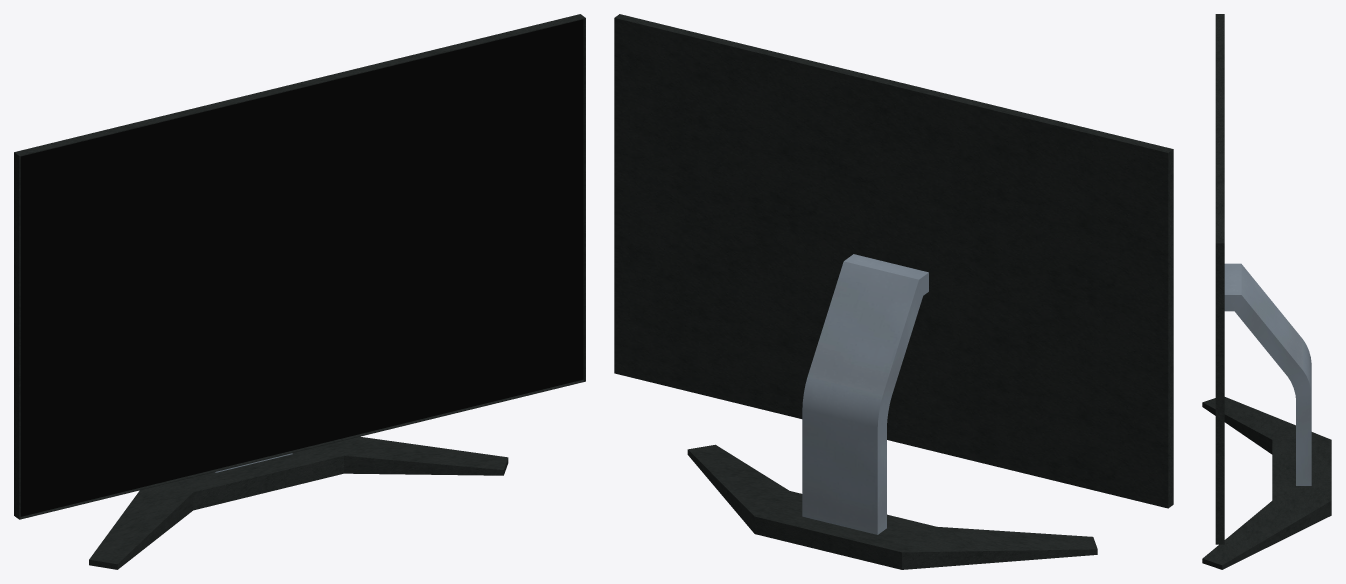
Rendered from monitor.glb.
The picture shows the model from 3 angles, left to right: view 1: azimuth 30°, elevation 25°; view 2: azimuth 150°, elevation 25°; view 3: azimuth 270°, elevation 25°; orthographic projection. The views are drawn at different scales.
Visible parts, largest first — view 1: monitor; view 2: monitor; view 3: monitor.
Part boxes in pixels (left/top/right/bottom): monitor: left=14, top=14, right=585, bottom=569; monitor: left=614, top=14, right=1173, bottom=569; monitor: left=1202, top=14, right=1331, bottom=569.
Size of what is drawn, in the model's own units: 1.34 by 0.9719 by 0.3191.
3 materials, 3 textured.
